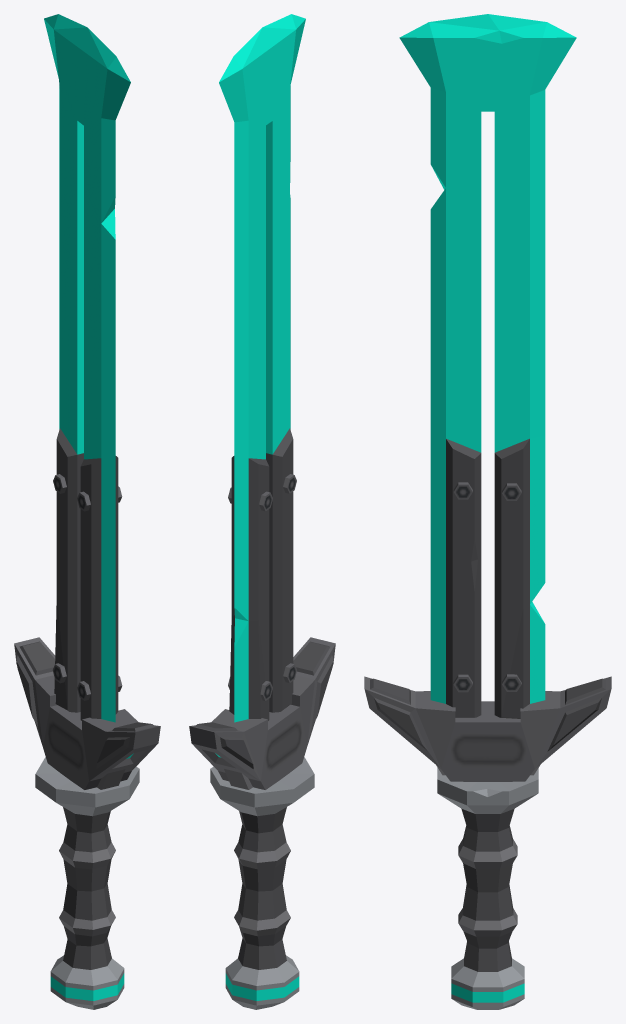
File: SM_Wep_Sword_04.fbx
3 renders of one model, left to right at view 1: azimuth 30°, elevation 25°; view 2: azimuth 150°, elevation 25°; view 3: azimuth 270°, elevation 25°, orthographic.
Visible parts, largest first — view 1: SM_Wep_Sword_04; view 2: SM_Wep_Sword_04; view 3: SM_Wep_Sword_04.
Boxes of the visible parts, x1,y1,x2,y2 form: SM_Wep_Sword_04: (14, 14, 160, 1009); SM_Wep_Sword_04: (189, 14, 335, 1009); SM_Wep_Sword_04: (364, 14, 611, 1009).
Size of the model in its own units: 12.85 by 143 by 32.43.
